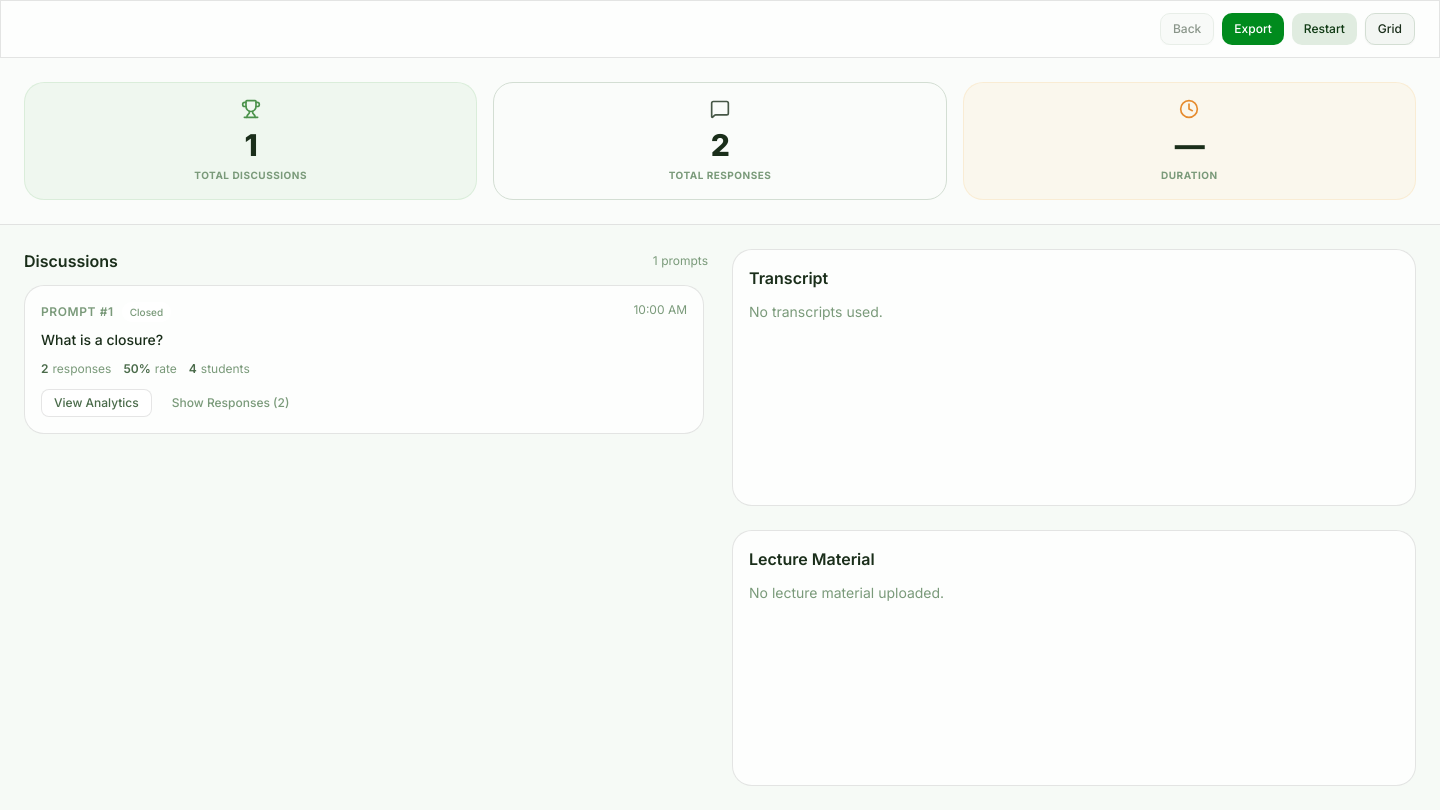
it: [US 1.39] Ended view response list › [AT4] success: clicking again hides responses
Click the button "Show Responses (2)" at (231, 403), box x1=160 y1=389 x2=301 y2=417
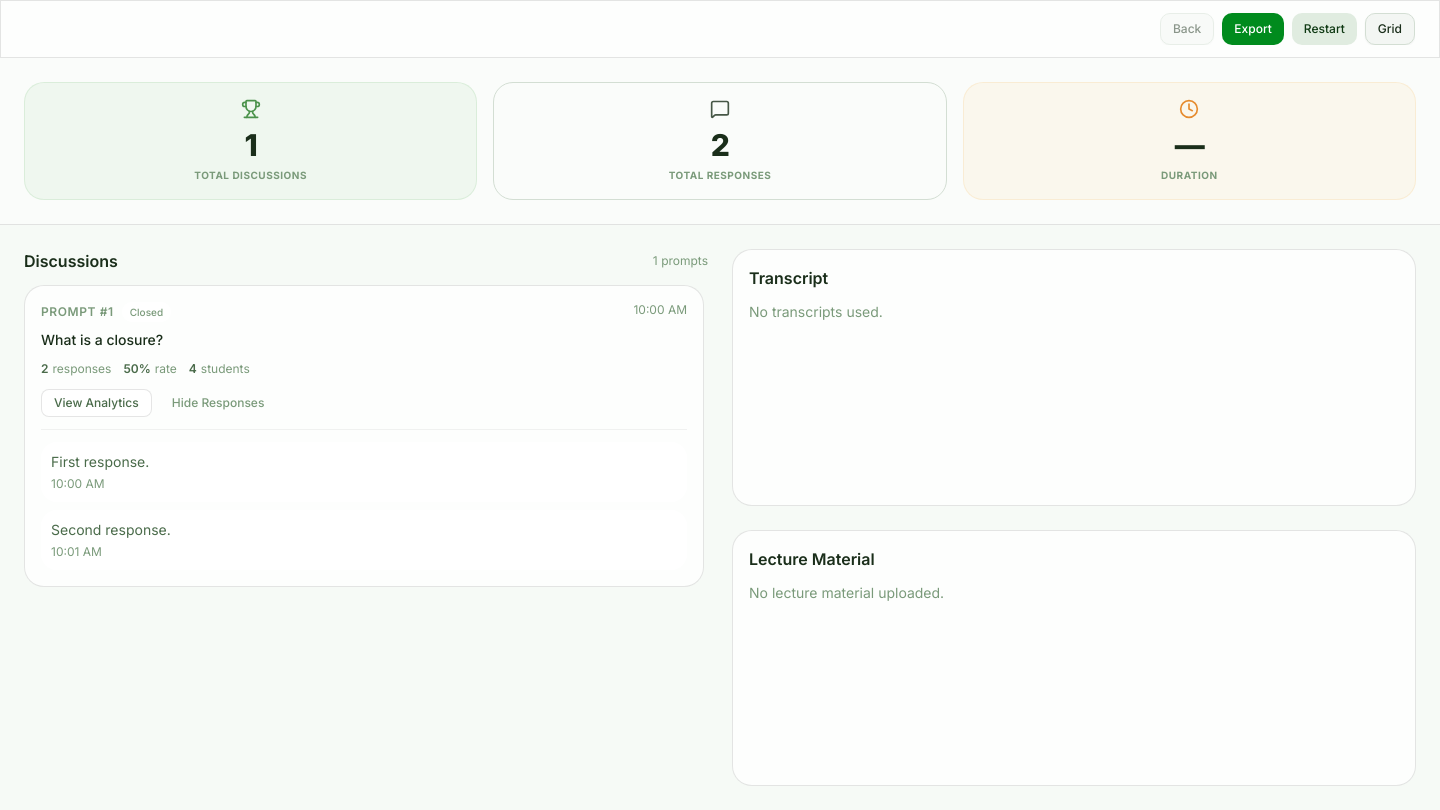
expect the text "First response." is shown: met, box x1=51 y1=453 x2=149 y2=470
Click the button "Hide Responses" at (218, 403), box x1=160 y1=389 x2=276 y2=417
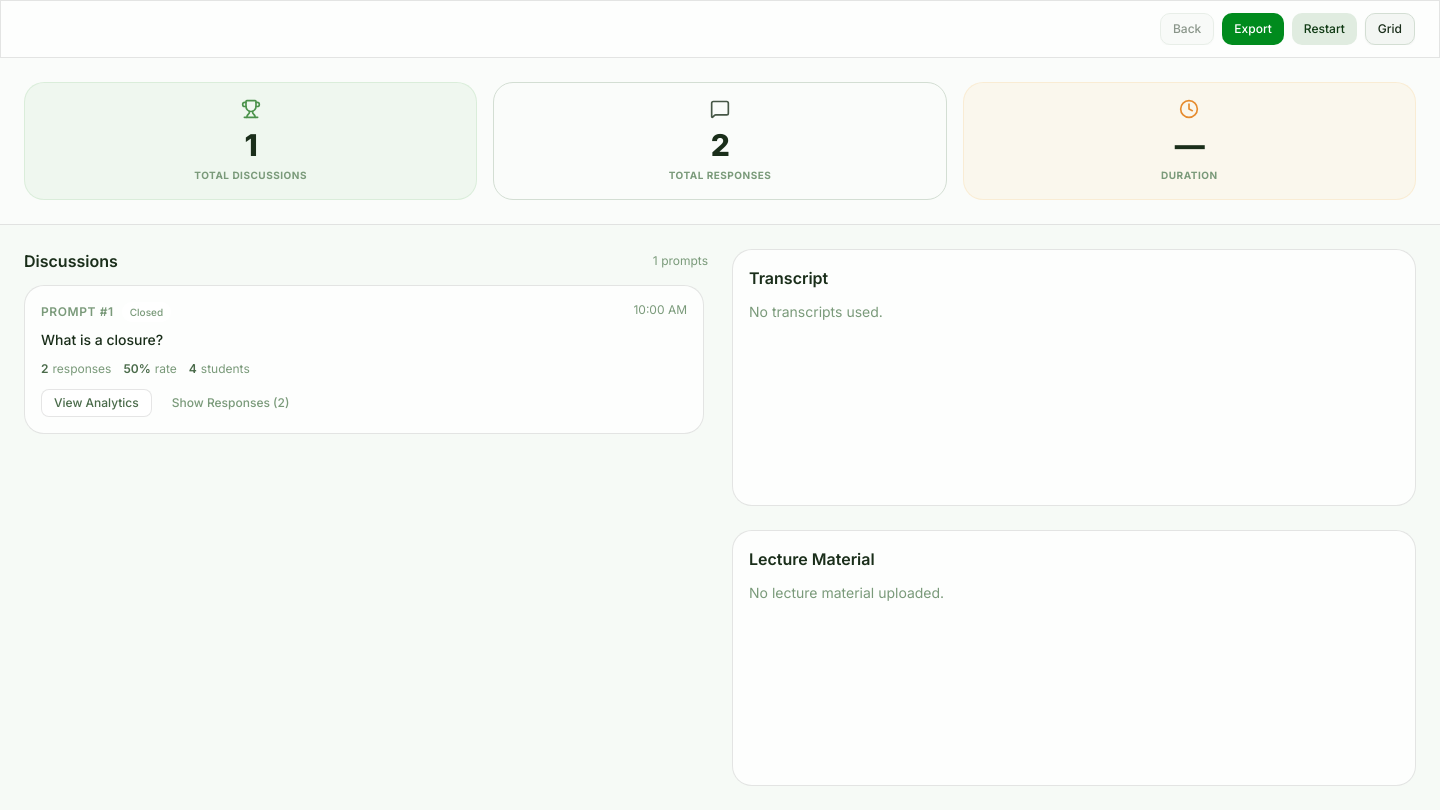
expect the text "First response." is gone: met
